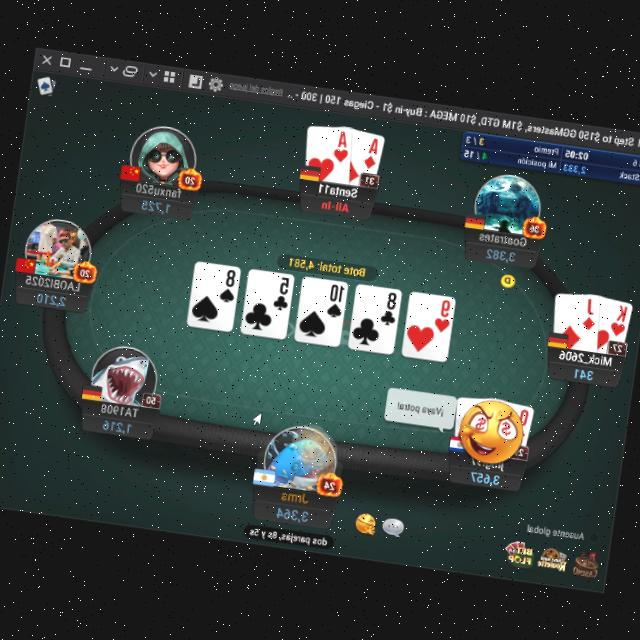5c: (272, 274, 293, 312)
8c: (379, 290, 400, 328)
8s: (217, 268, 239, 304)
9h: (432, 297, 454, 333)
Ad: (360, 136, 381, 172)
Ah: (330, 128, 353, 164)
Jd: (580, 295, 601, 332)
Kh: (608, 302, 630, 338)
Ts: (325, 281, 347, 319)
all_in_symbol: (320, 195, 353, 213)
dealer: (498, 270, 518, 288)
pot_text: (284, 254, 366, 277)
stack_text: (274, 502, 312, 524), (33, 288, 68, 306), (140, 196, 174, 214), (484, 244, 518, 262), (100, 416, 134, 434), (470, 468, 502, 485), (572, 364, 596, 381)
